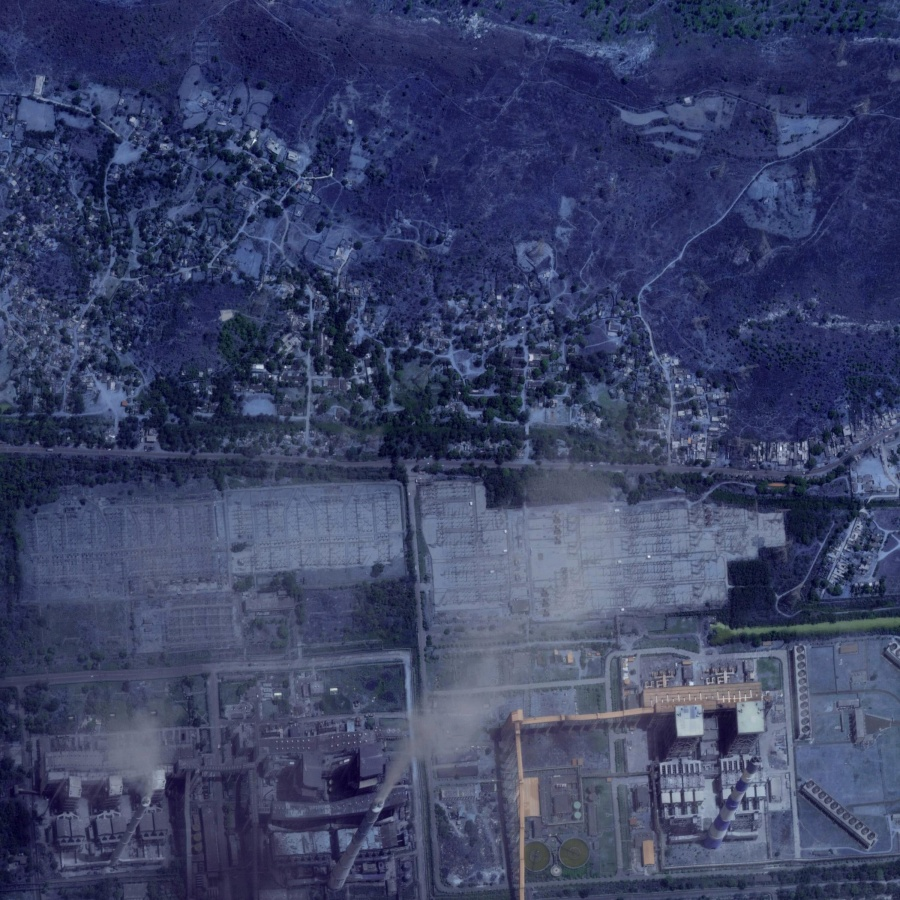PowerPlant: (652, 683, 776, 863)
